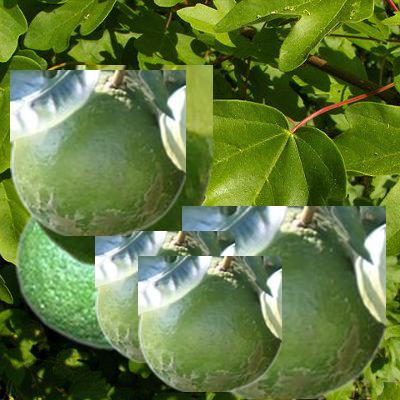dalandan: (182, 206, 384, 397), (29, 65, 211, 267), (10, 70, 184, 234), (138, 256, 280, 390), (95, 231, 233, 361), (13, 214, 112, 349)
